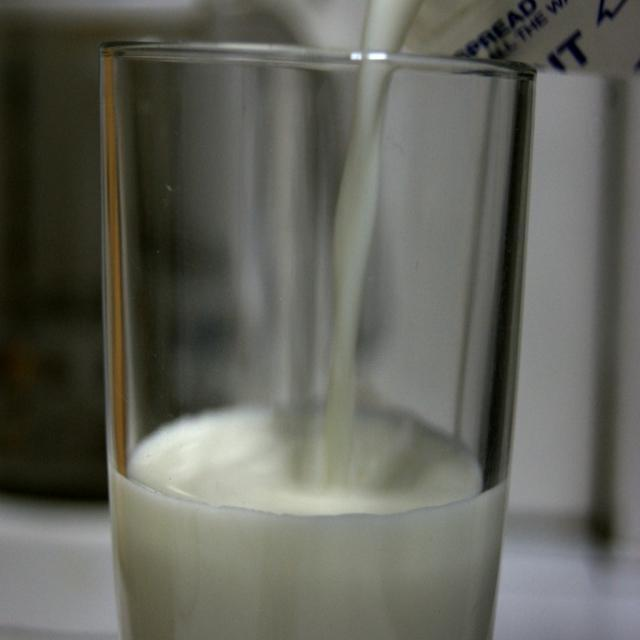Milk: (105, 389, 507, 640), (321, 0, 424, 387)
